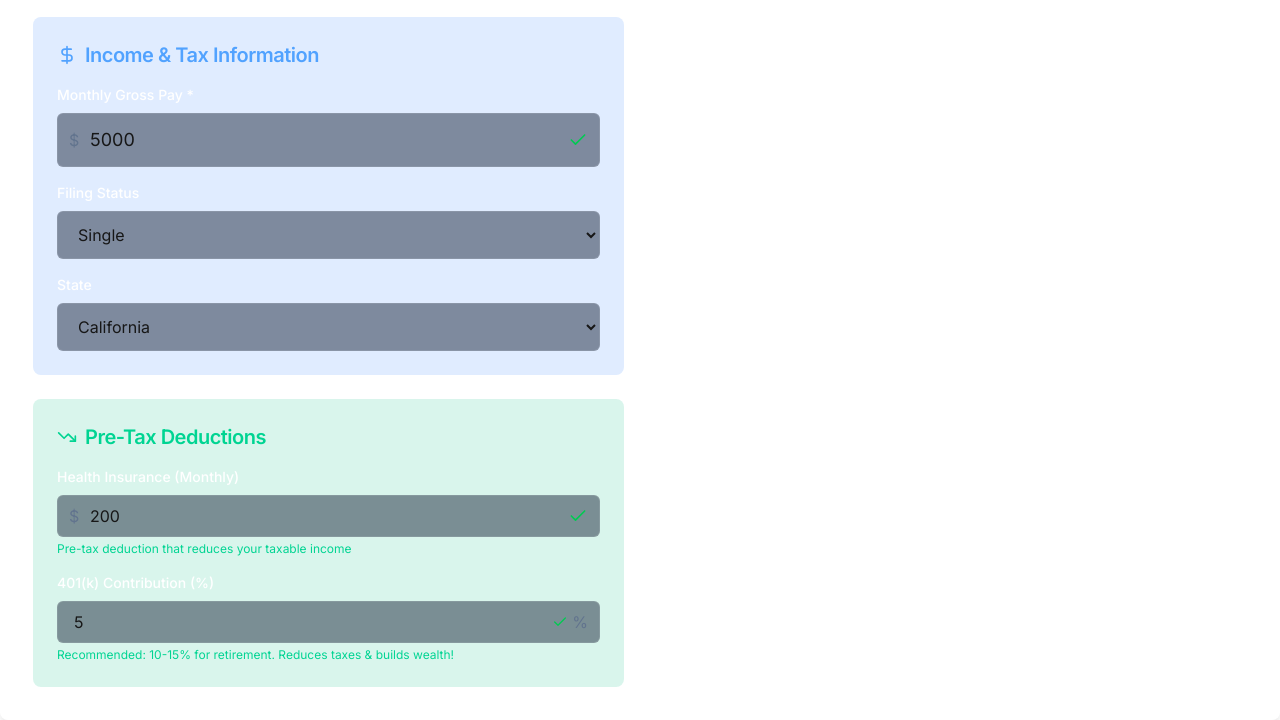
Test case: PaycheckCalculator › validates 401k contribution percentage
This screenshot has width=1280, height=720.
(page scrolled)
Note: Test invalid input (too high)
Step 1. Type "60" into the number field labelled "401(k) Contribution (%)" → (328,622), box 57,601 -> 600,643
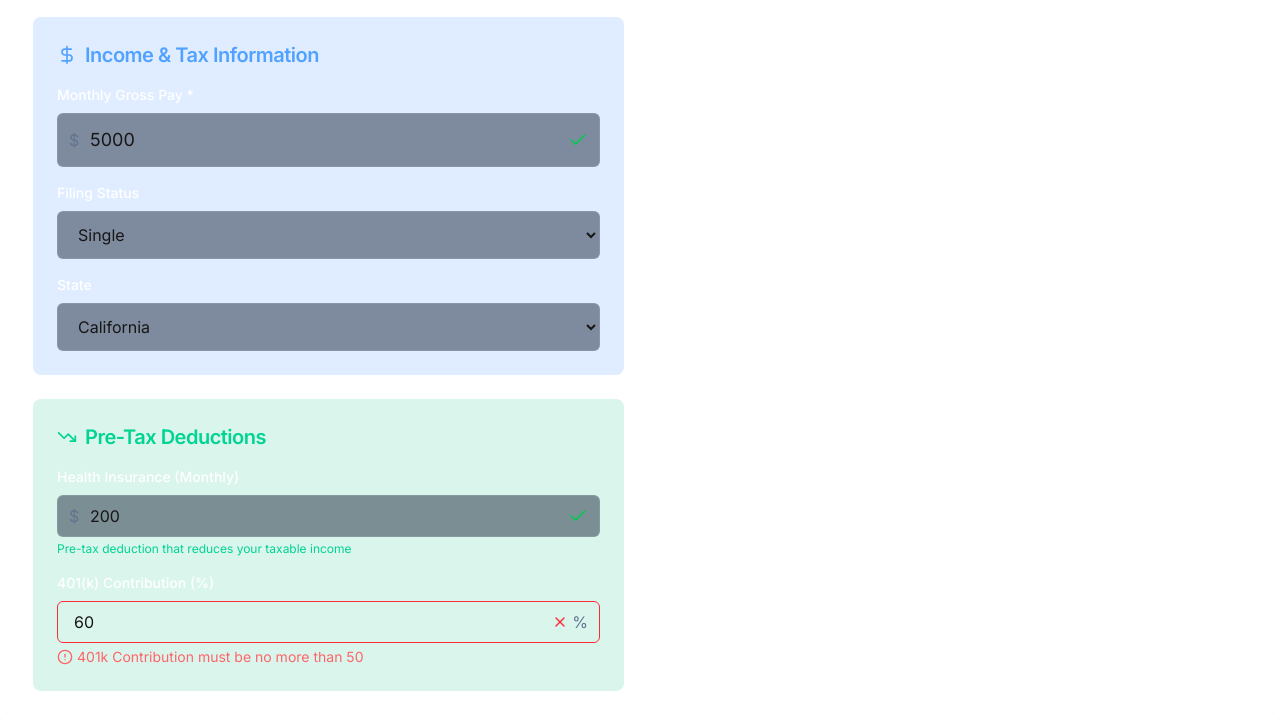
Check: the text "401k Contribution must be no more than 50" is shown, box 57,648 -> 364,665
